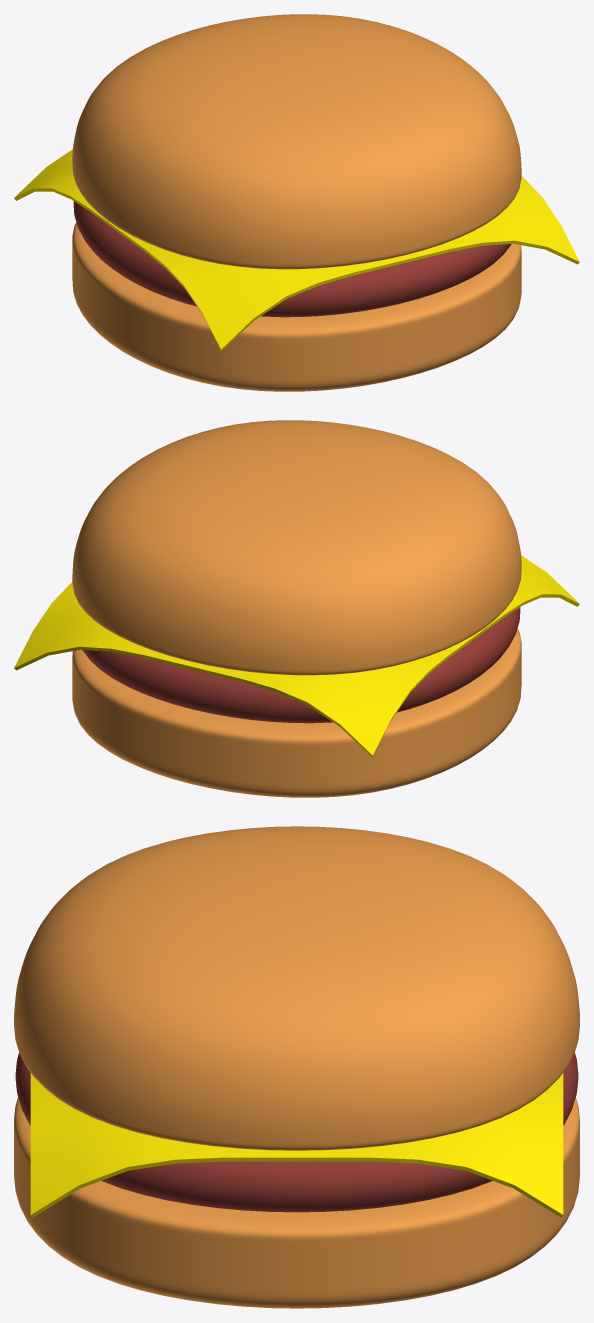
The model's file is hamburger.glb.
3 renders of one model, top to bottom at view 1: azimuth 30°, elevation 25°; view 2: azimuth 150°, elevation 25°; view 3: azimuth 270°, elevation 25°, orthographic. The views are drawn at different scales.
Parts seen in each view (by area): view 1: Cube.002, Cube, Plane, Cube.001; view 2: Cube.002, Cube, Plane, Cube.001; view 3: Cube.002, Cube, Plane, Cube.001.
Part boxes in pixels (x1,y1,x2,y2): Cube.002: (72,14,521,269); Cube: (72,222,521,391); Plane: (14,149,579,350); Cube.001: (73,201,511,317); Cube.002: (72,420,521,675); Cube: (72,628,521,797); Plane: (14,555,579,756); Cube.001: (82,607,520,723); Cube.002: (14,826,579,1150); Cube: (14,1097,579,1308); Plane: (30,1073,563,1217); Cube.001: (15,1052,578,1212).
Bounding box in the file's own units: 0.9167 × 0.5757 × 0.9167.
